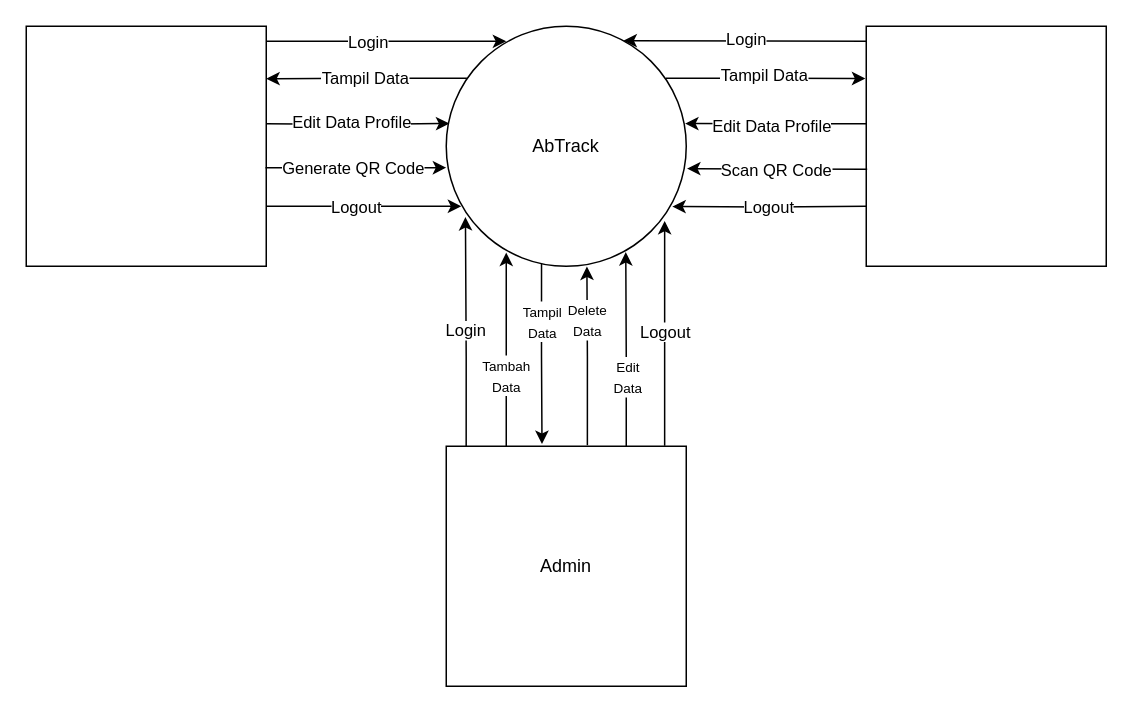
The diagram is 1133 pixels wide and 713 high, and some of its shapes have lost their labels. Here are the shapes that lost their labels. From the top down, the box of each, then its label:
(25, 25, 266, 266): Guru
(865, 25, 1106, 266): Siswa
